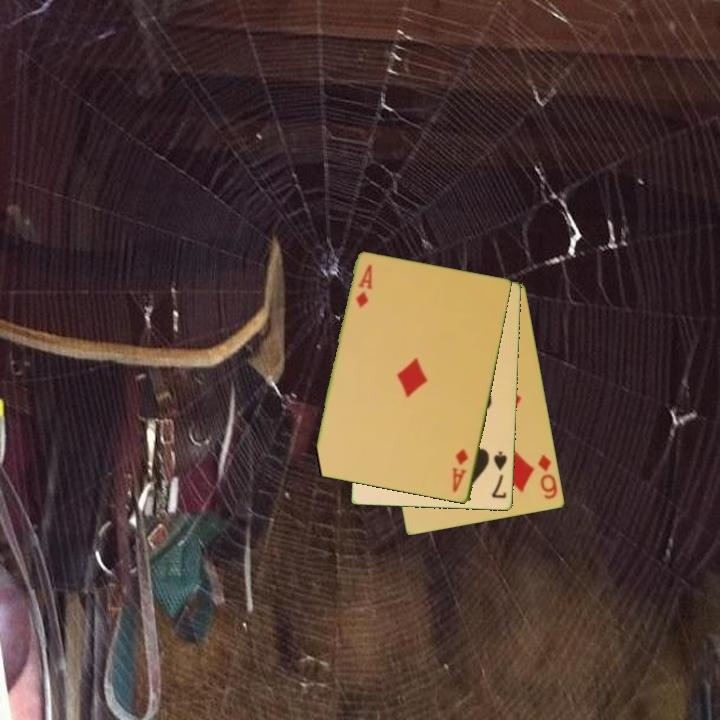6d: (535, 451, 561, 502)
7s: (488, 448, 510, 501)
Ad: (449, 445, 471, 496), (353, 261, 375, 311)
